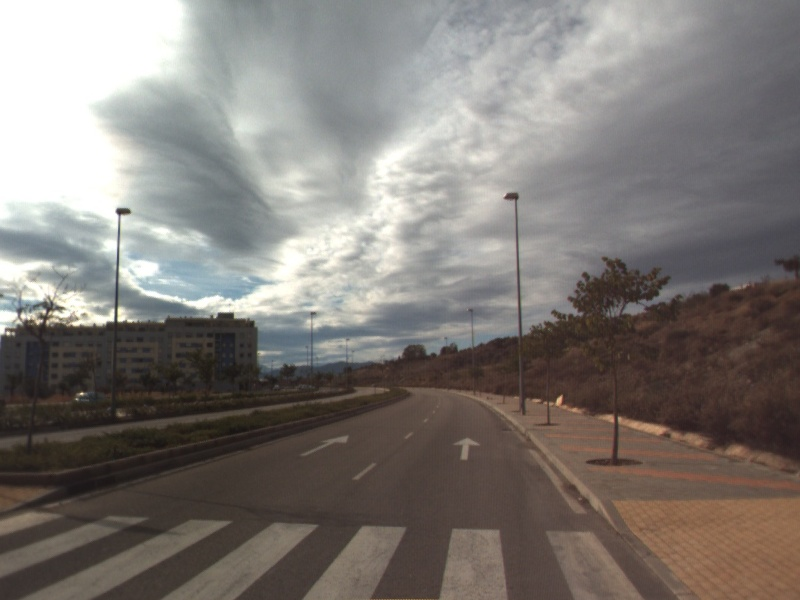STRAIGHT: (297, 433, 351, 458), (451, 435, 483, 462)
